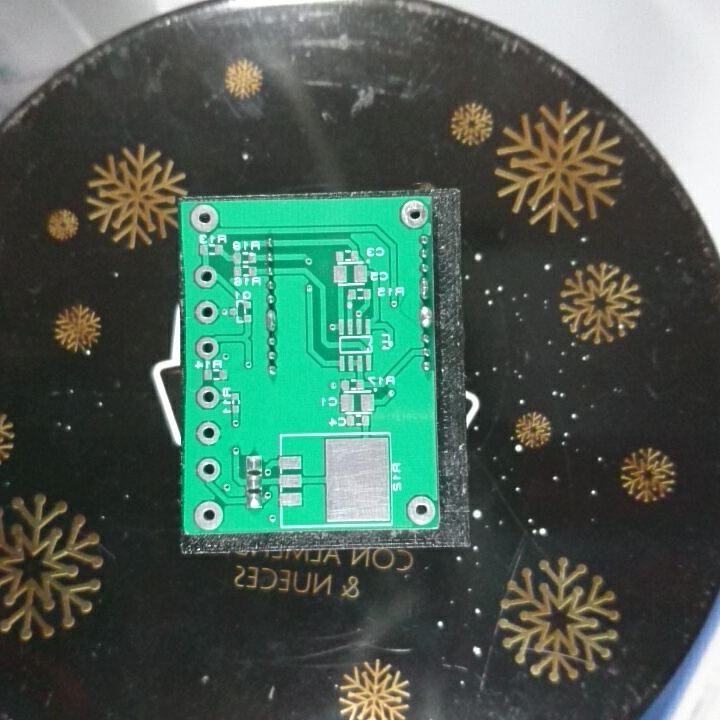F: (404, 493, 437, 526), (186, 204, 221, 235), (398, 198, 430, 231), (191, 500, 225, 530), (191, 334, 221, 362), (194, 455, 222, 483), (192, 298, 219, 326), (194, 384, 220, 412), (194, 420, 222, 446), (191, 264, 218, 289)
P: (417, 303, 434, 329), (263, 306, 278, 332), (418, 275, 430, 302)
